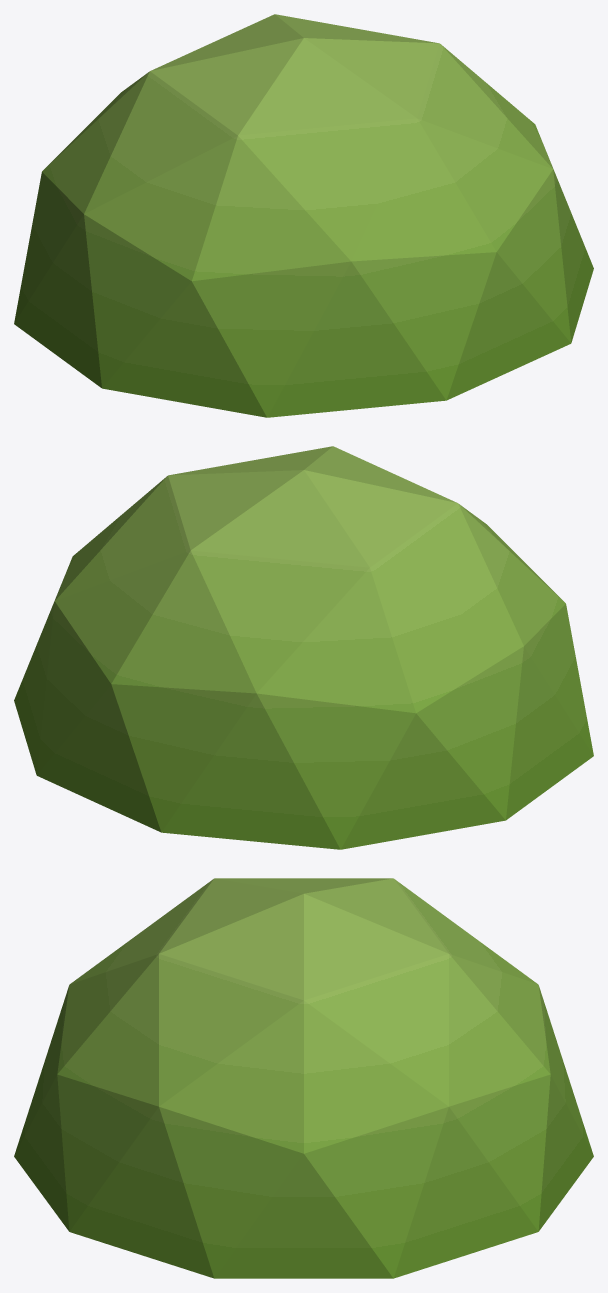
The model's file is bush_plant.glb.
The picture shows the model from 3 angles, top to bottom: view 1: azimuth 30°, elevation 25°; view 2: azimuth 150°, elevation 25°; view 3: azimuth 270°, elevation 25°; orthographic projection.
Visible parts, largest first — view 1: bush plant; view 2: bush plant; view 3: bush plant.
Boxes of the visible parts, x1=… form: bush plant: x1=14, y1=14, x2=593, y2=417; bush plant: x1=14, y1=446, x2=593, y2=849; bush plant: x1=14, y1=878, x2=593, y2=1278.
Bounding box in the file's own units: 1.99 × 1 × 2.
1 material, 1 textured.
